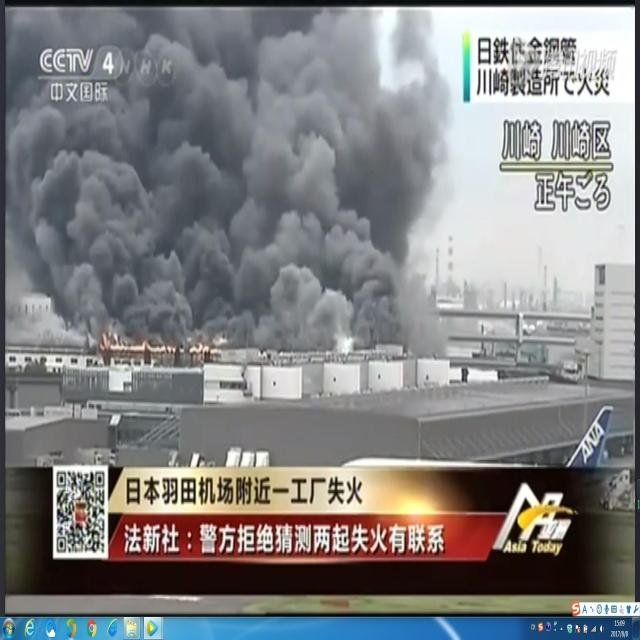smoke: (5, 12, 450, 350)
